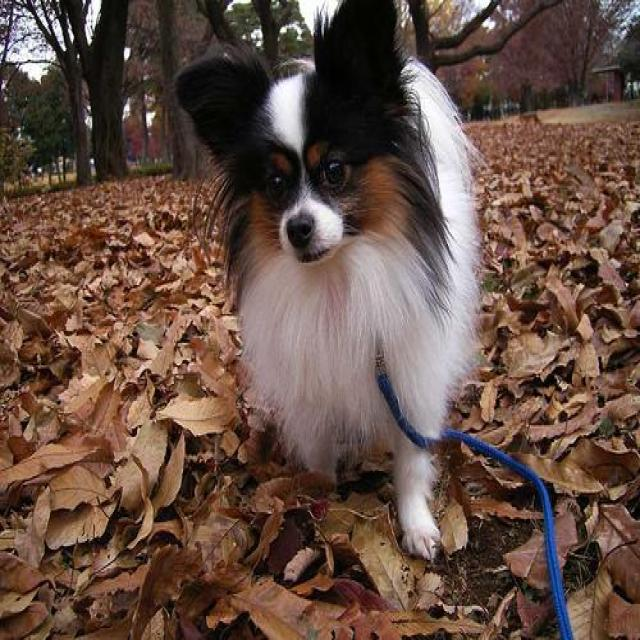papillon: (171, 0, 483, 561)
